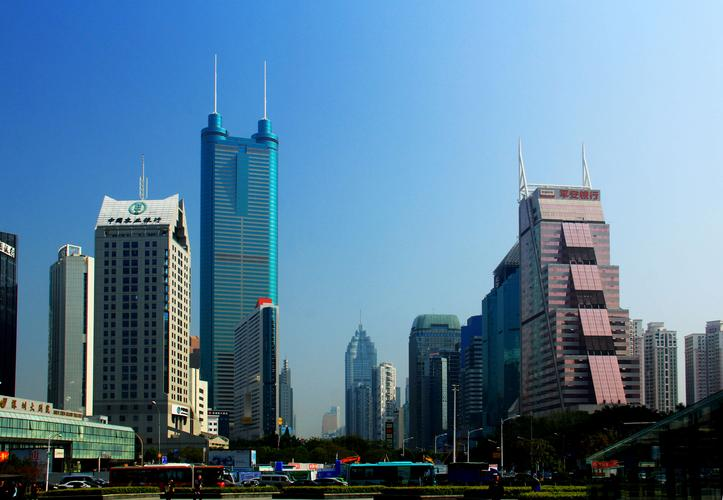buildings: (470, 163, 662, 476), (68, 184, 215, 461), (185, 96, 298, 450), (209, 296, 283, 446), (44, 237, 100, 434), (401, 304, 462, 467), (452, 305, 498, 469), (342, 312, 383, 457)
